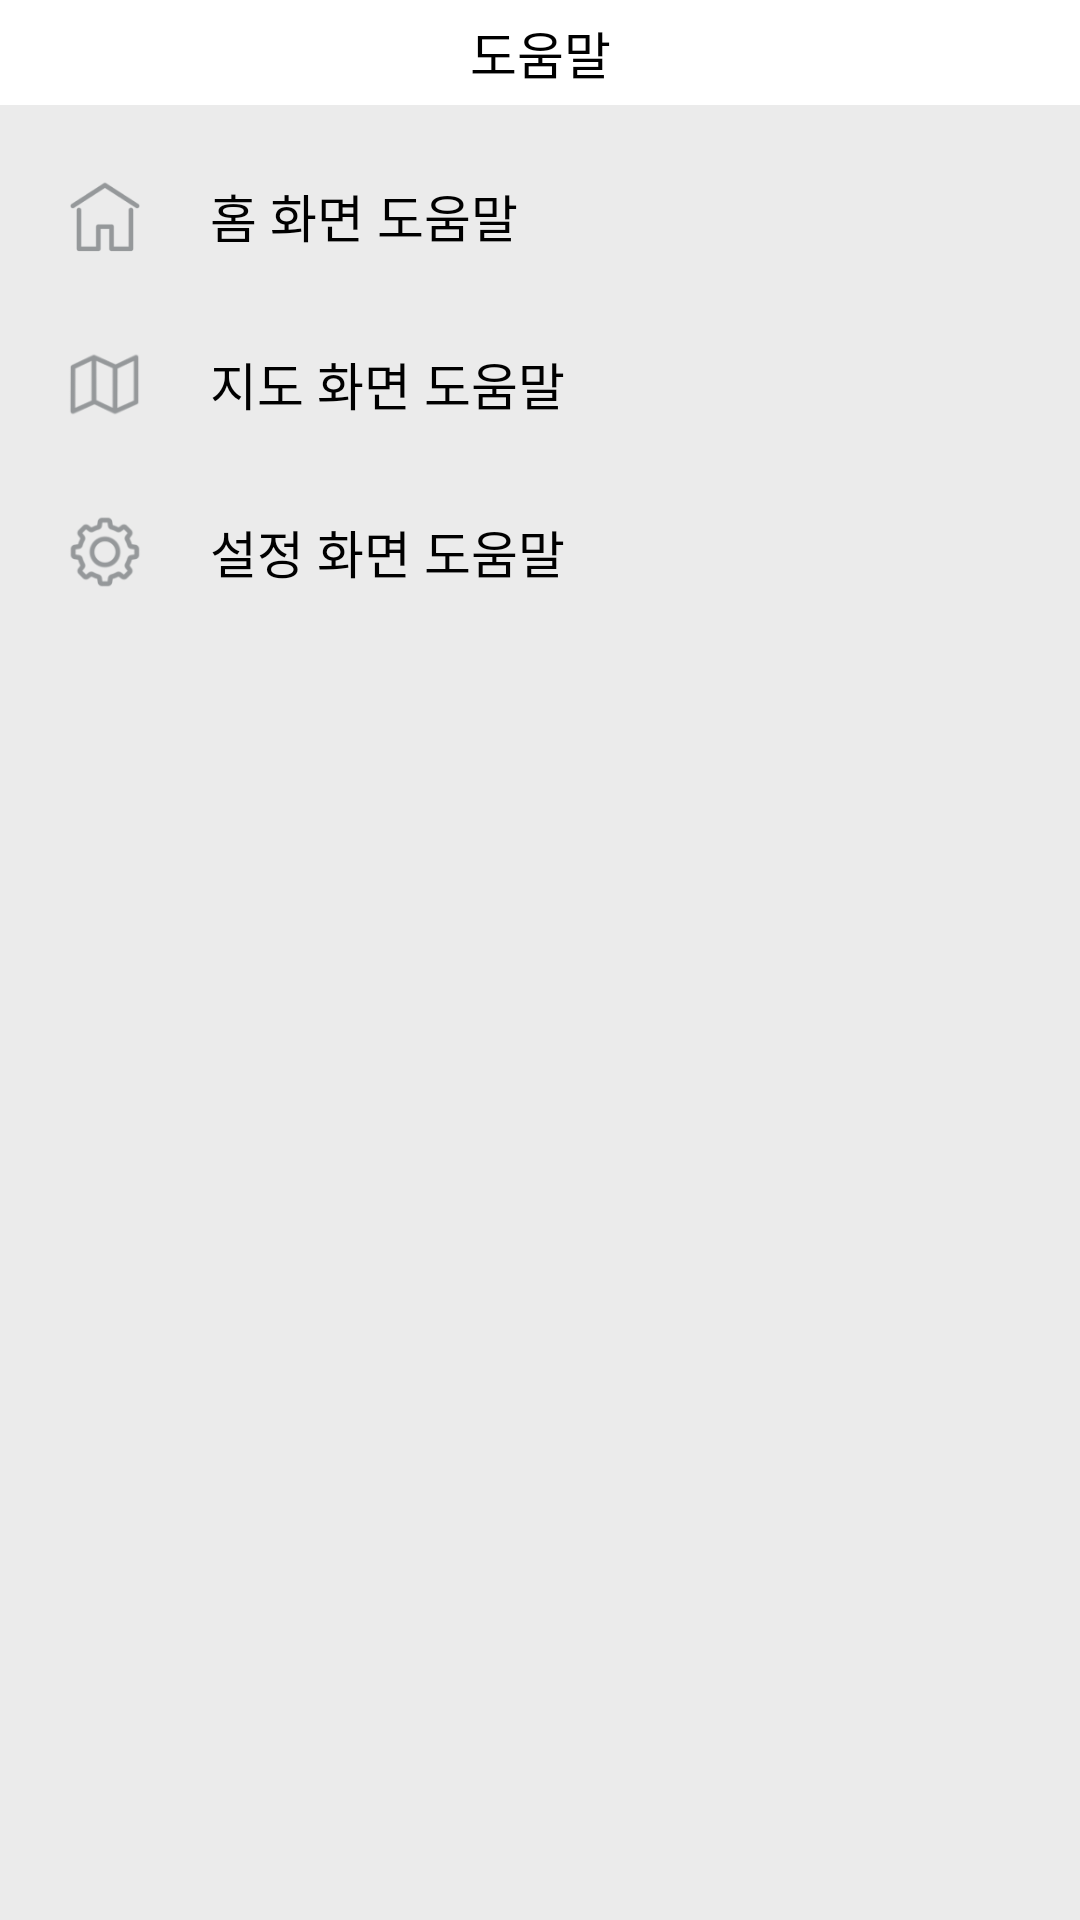

Icon click points for this 1080x1920 phone screenshot, format [x,y]:
ask home: [105,217]
ask map: [104,384]
ask settings: [104,551]
